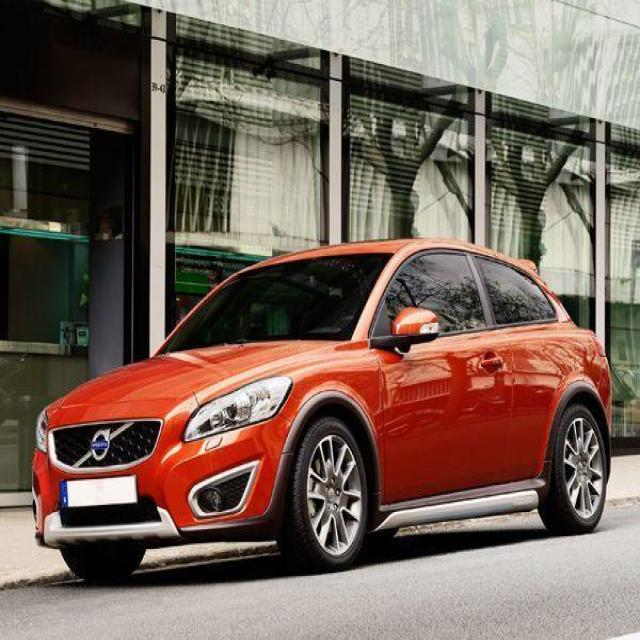Car: (29, 237, 640, 598)
